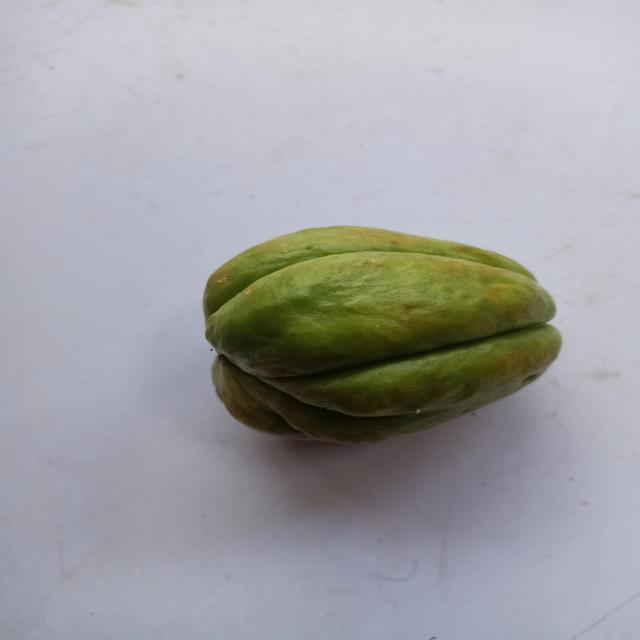Chayote: (192, 205, 572, 466)
